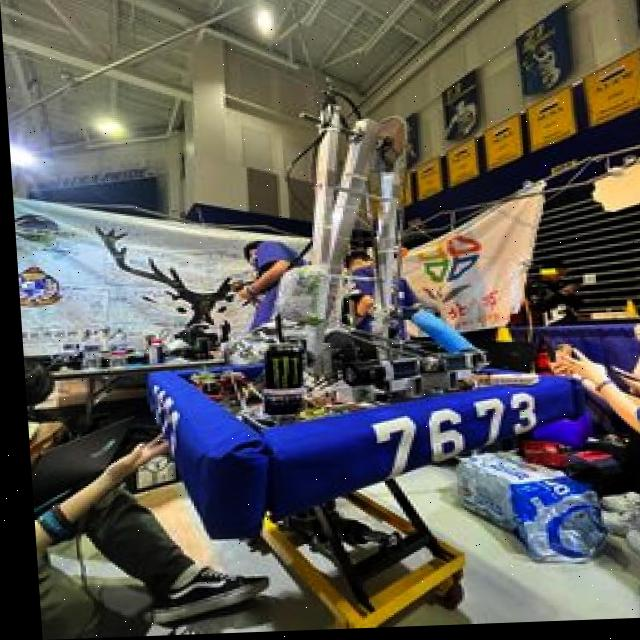robot: (114, 71, 591, 540)
